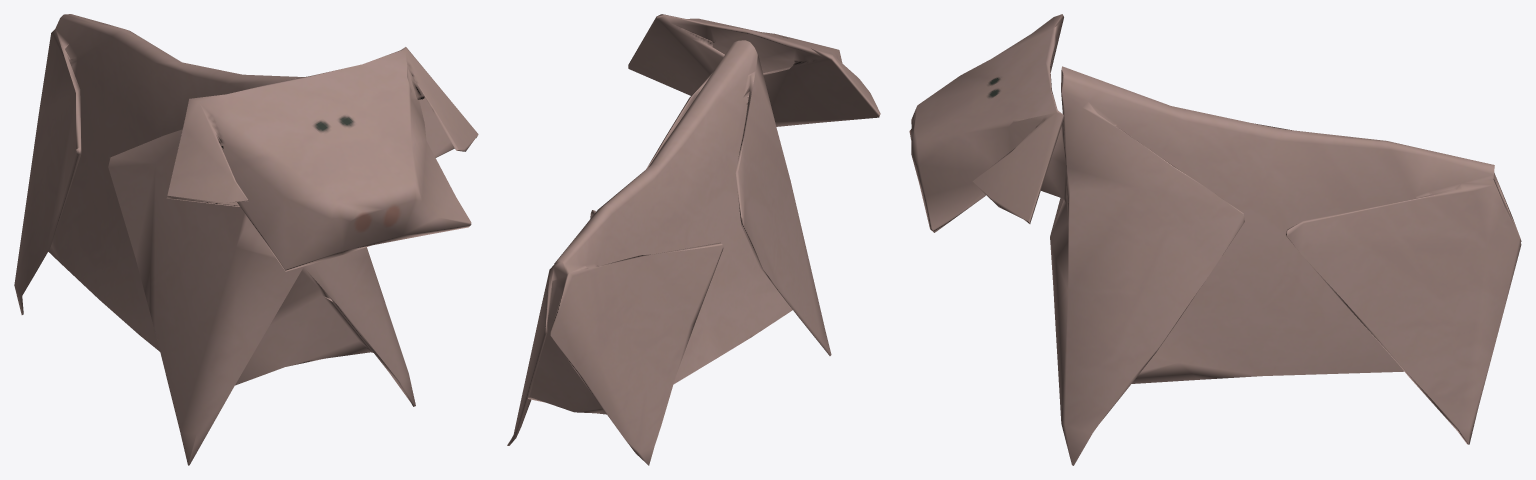
File: pig_FDRemesh_LOD2.fbx
3 renders of one model, left to right at view 1: azimuth 30°, elevation 25°; view 2: azimuth 150°, elevation 25°; view 3: azimuth 270°, elevation 25°, orthographic. The views are drawn at different scales.
Visible parts, largest first — view 1: Simplygon_Proxy_1d8bc664-44de-4d37-afe7-c2de74725f71; view 2: Simplygon_Proxy_1d8bc664-44de-4d37-afe7-c2de74725f71; view 3: Simplygon_Proxy_1d8bc664-44de-4d37-afe7-c2de74725f71.
Boxes of the visible parts, x1=… form: Simplygon_Proxy_1d8bc664-44de-4d37-afe7-c2de74725f71: x1=14, y1=14, x2=478, y2=465; Simplygon_Proxy_1d8bc664-44de-4d37-afe7-c2de74725f71: x1=507, y1=14, x2=880, y2=465; Simplygon_Proxy_1d8bc664-44de-4d37-afe7-c2de74725f71: x1=909, y1=14, x2=1521, y2=465.
Bounding box in the file's own units: 3.59 × 4.07 × 6.5.
1 material, 1 textured.
